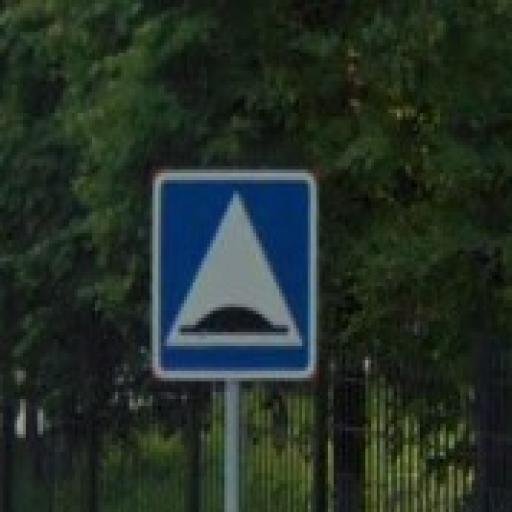traffic_sign: (151, 167, 318, 382)
